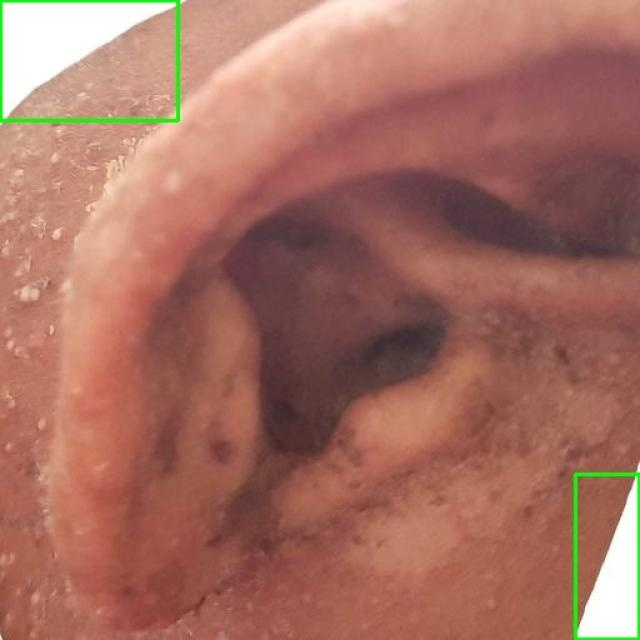Contact Dermatitis: (0, 0, 178, 120), (575, 474, 639, 639)
